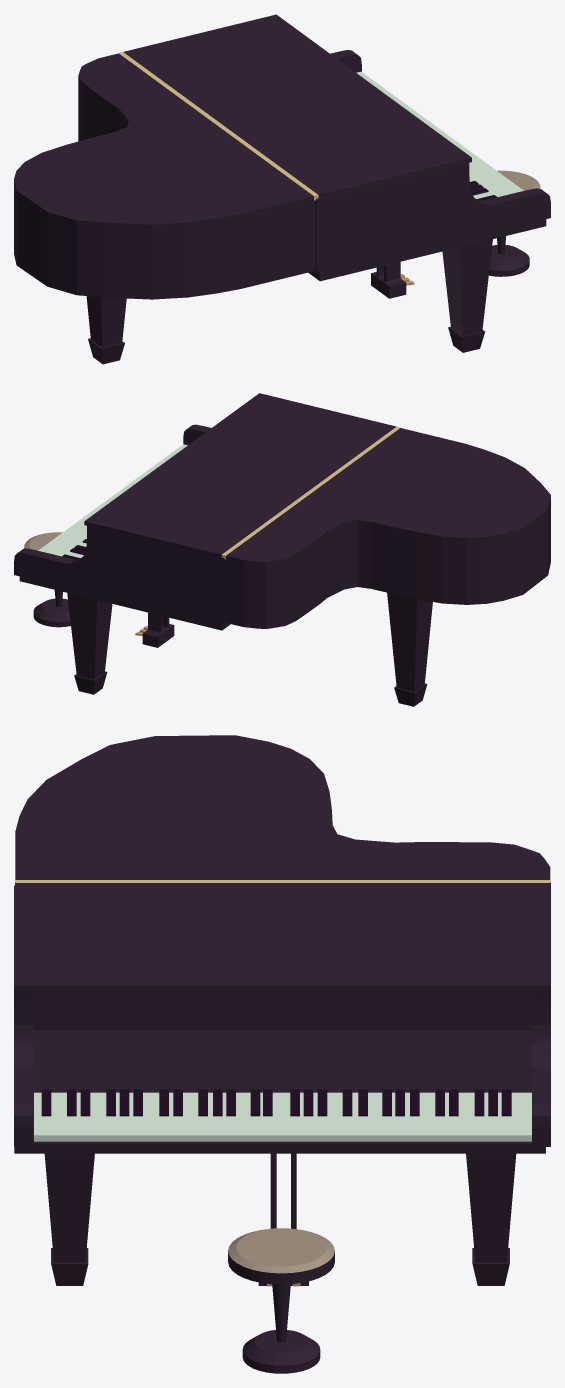
Rendered from piano2.fbx.
The picture shows the model from 3 angles, top to bottom: view 1: azimuth 30°, elevation 25°; view 2: azimuth 150°, elevation 25°; view 3: azimuth 270°, elevation 25°; orthographic projection. The views are drawn at different scales.
Visible parts, largest first — view 1: Cube; view 2: Cube; view 3: Cube.
Part boxes in pixels (<box>): Cube: <box>14,14,550,364</box>; Cube: <box>14,393,550,706</box>; Cube: <box>14,735,550,1373</box>.
Size of the model in its own units: 6299 by 2353 by 3992.
